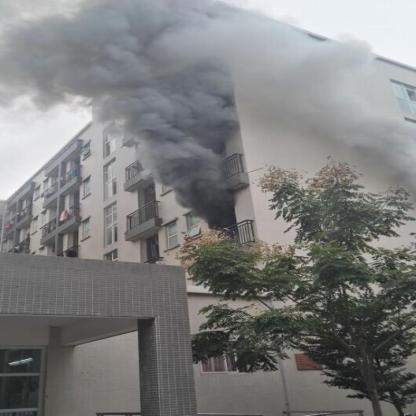smoke: (6, 0, 236, 108), (248, 13, 416, 158), (110, 109, 230, 161), (162, 160, 236, 217)
